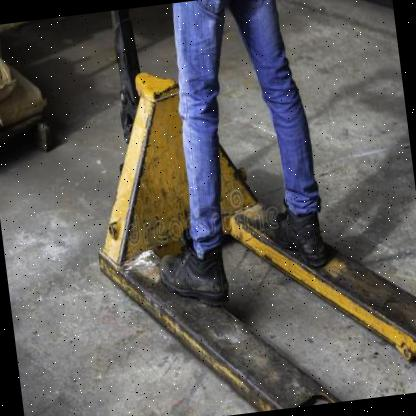bota: (151, 231, 236, 317), (257, 197, 335, 276)
